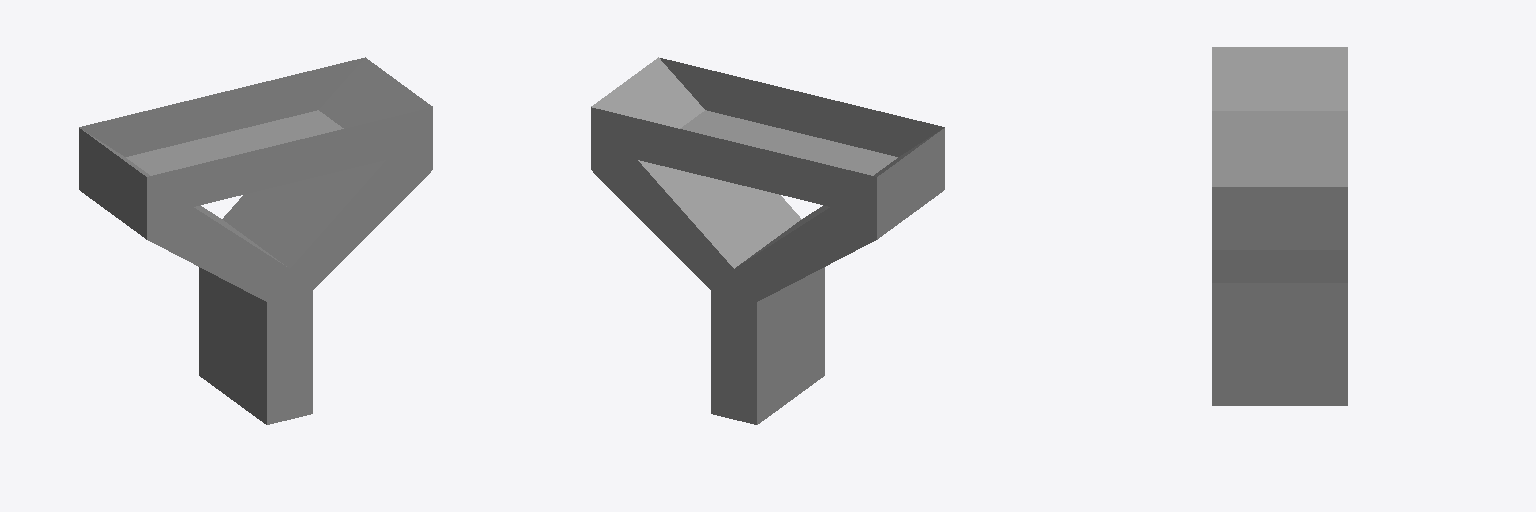
The model's file is ybridgepillar.obj.
3 renders of one model, left to right at view 1: azimuth 30°, elevation 25°; view 2: azimuth 150°, elevation 25°; view 3: azimuth 270°, elevation 25°, orthographic.
Parts seen in each view (by area): view 1: Cube_Cube.002; view 2: Cube_Cube.002; view 3: Cube_Cube.002.
Boxes of the visible parts, x1,y1,x2,y2 form: Cube_Cube.002: [79, 57, 432, 424]; Cube_Cube.002: [591, 57, 944, 424]; Cube_Cube.002: [1212, 47, 1347, 405].
Bounding box in the file's own units: 3.62 × 3.35 × 1.49.